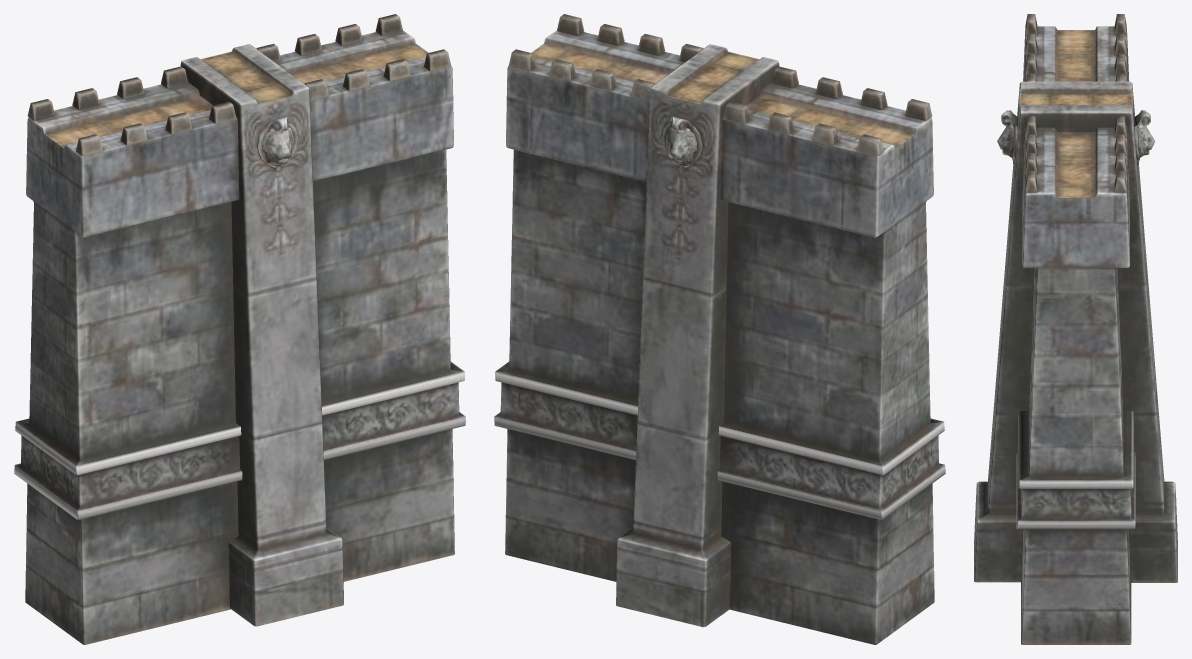
The model's file is 69-fortifiedwall-wall_fortified_g_short.glb.
The picture shows the model from 3 angles, left to right: view 1: azimuth 30°, elevation 25°; view 2: azimuth 150°, elevation 25°; view 3: azimuth 270°, elevation 25°; orthographic projection. The views are drawn at different scales.
Bounding box in the file's own units: 4.46 × 5.51 × 2.18.
1 material, 1 textured.
